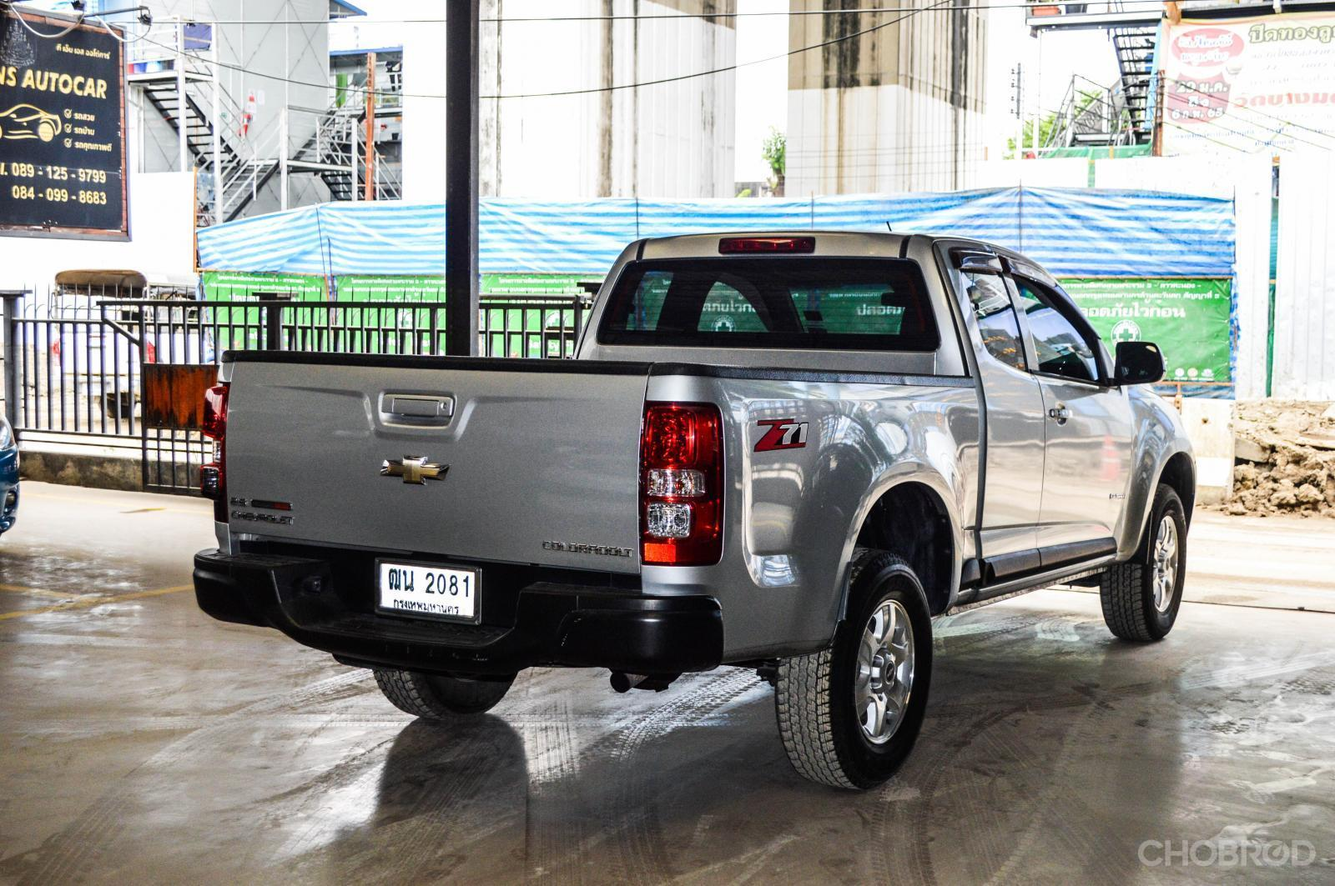license-plate: (374, 556, 487, 626)
